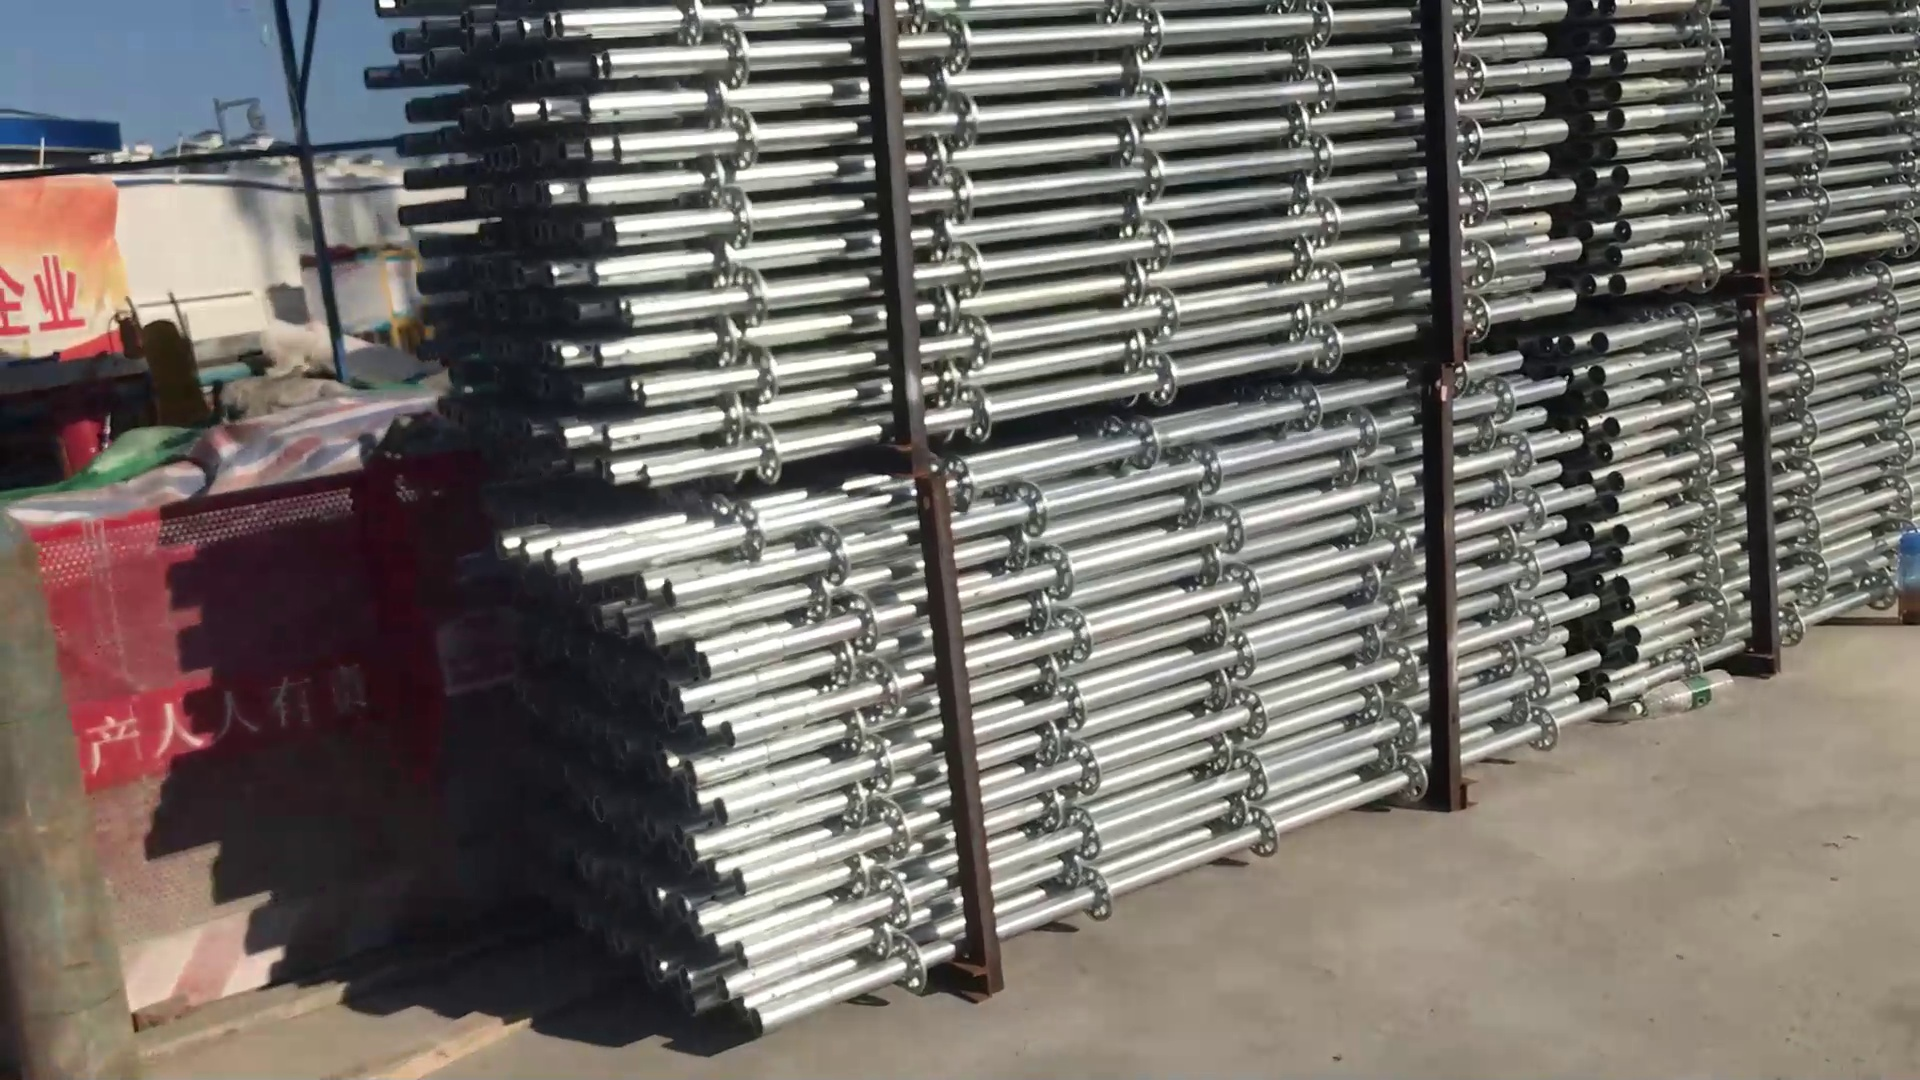fence: (29, 495, 477, 1044)
scaffold: (419, 1, 1633, 1011), (1575, 1, 1911, 659)
